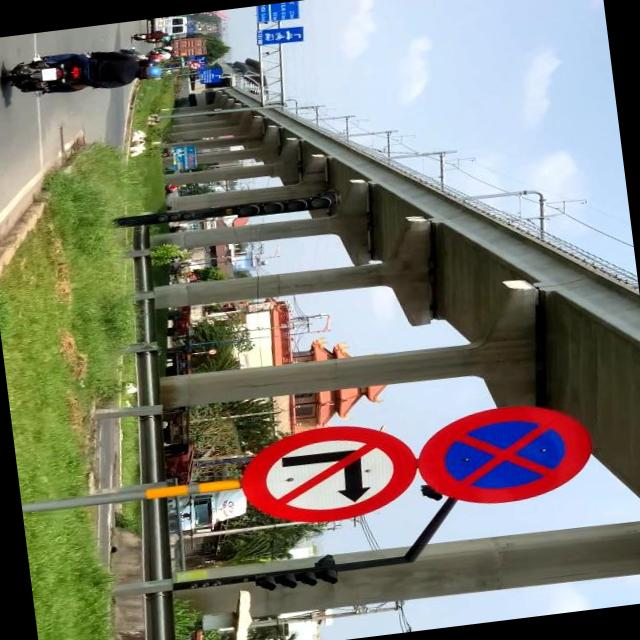P-123b: (238, 418, 420, 530)
P-130: (412, 397, 598, 510)
